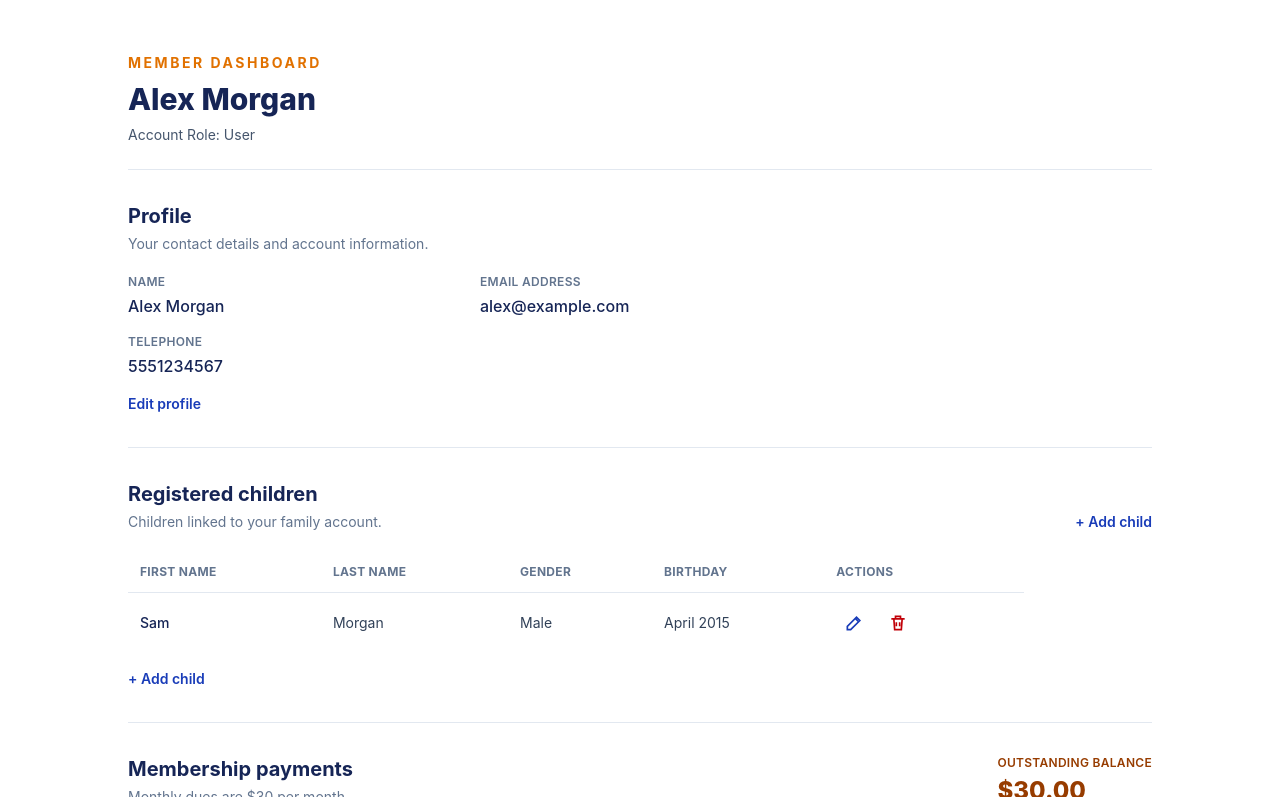
Scenario: MemberDashboard profile › edits a child from the children table
Click the button named "Edit Sam Morgan" at (854, 623), box [836,605,872,641]
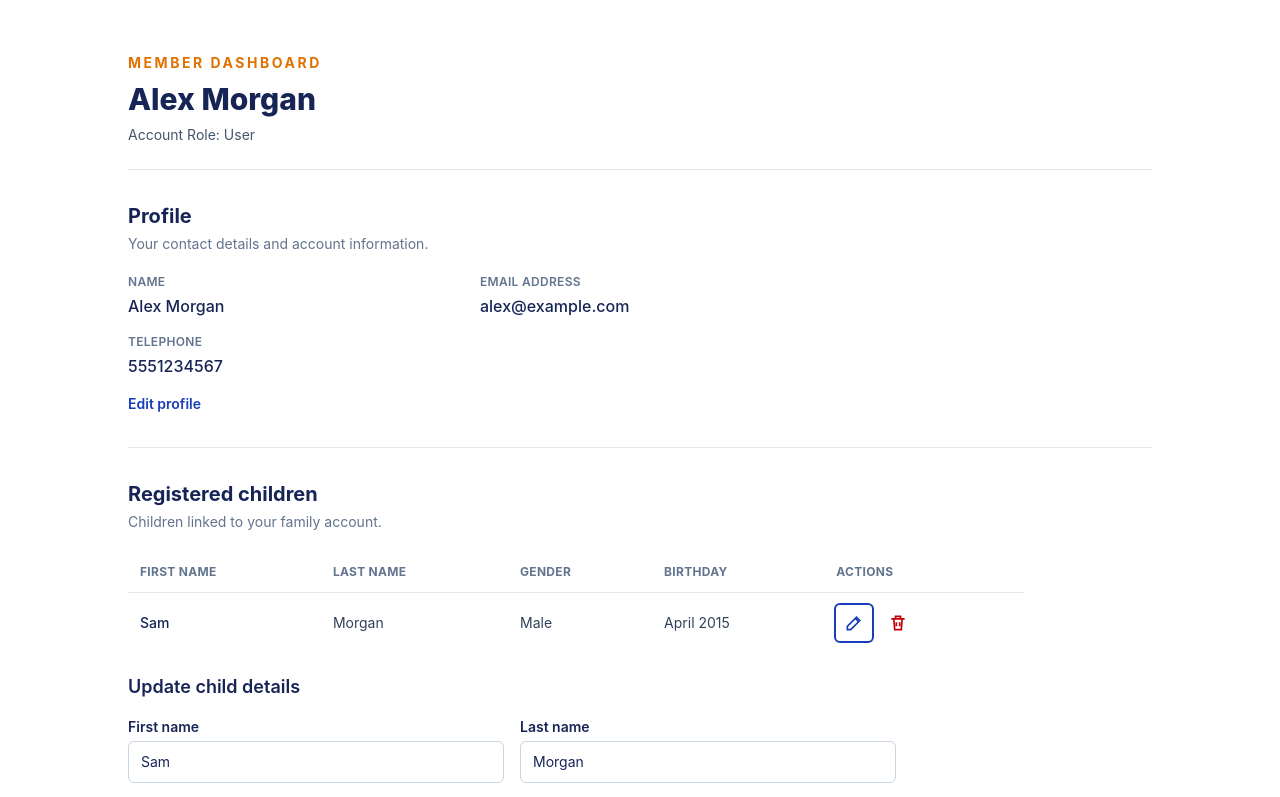
Replace the text in the field labelled "First name" with "Samuel" at (316, 762), box [128,741,504,783]
(page scrolled)
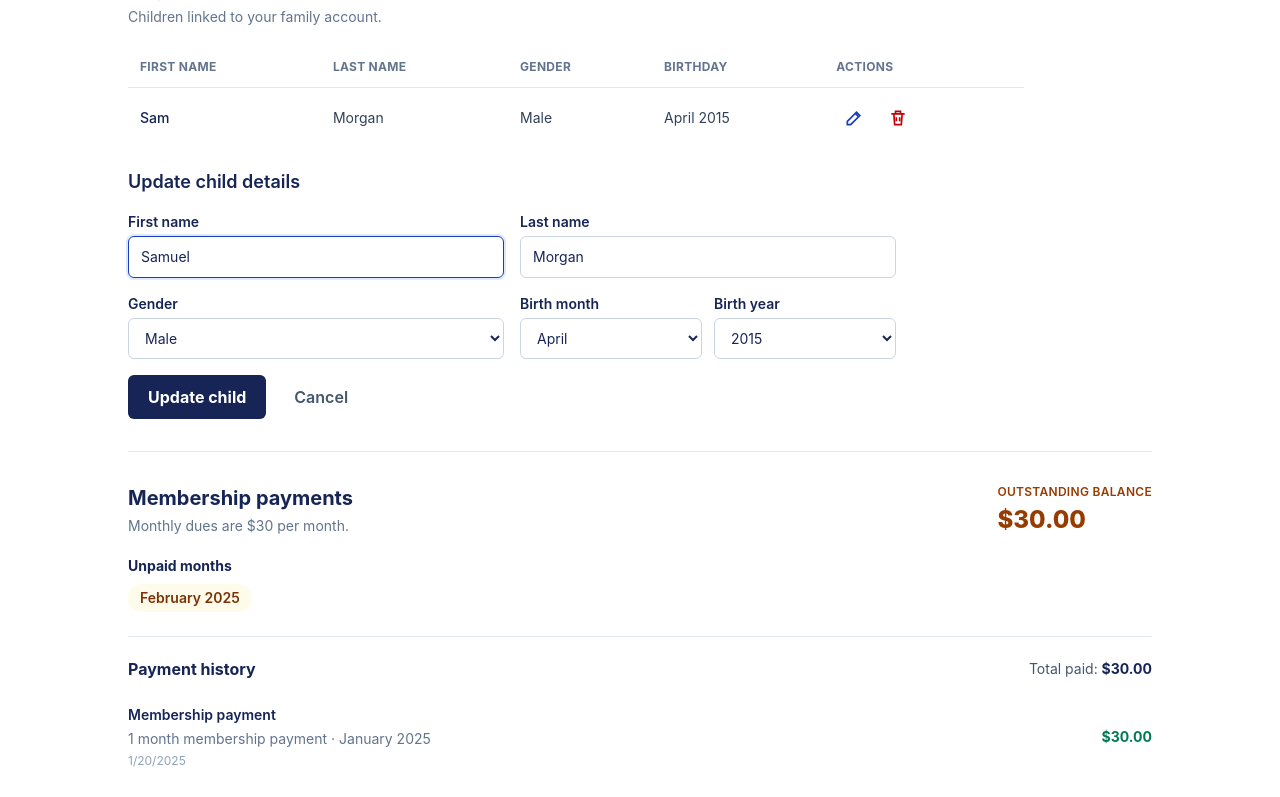
Click the button "Update child" at (197, 397), box [128,375,266,419]
(page scrolled)
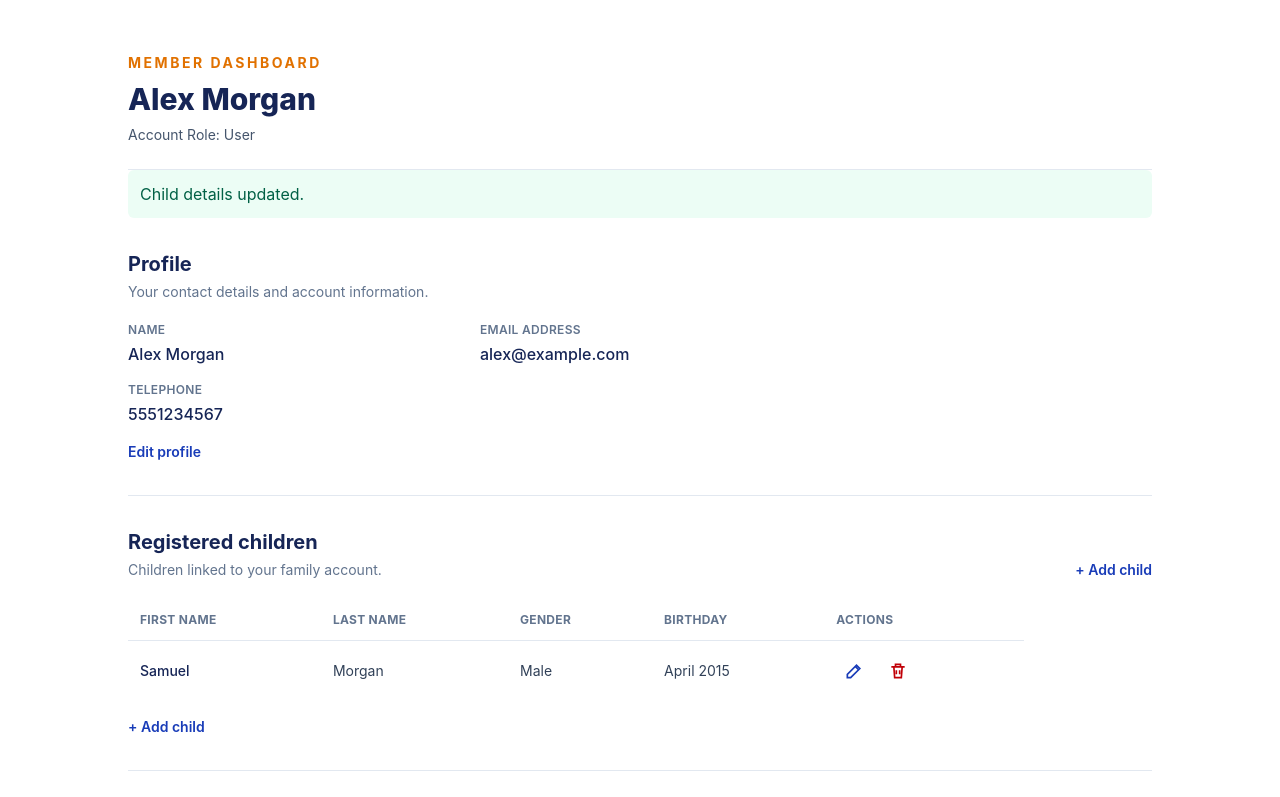
Expected: the text "Samuel" is shown, [128,640,321,701]
Expected: the message reads "Child details updated.", [140,184,304,204]
